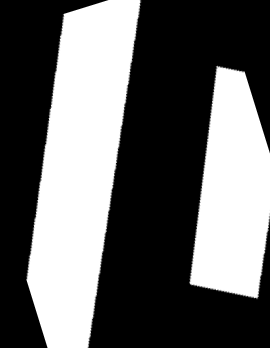parkingspot: (26, 0, 141, 348), (189, 66, 270, 298)
